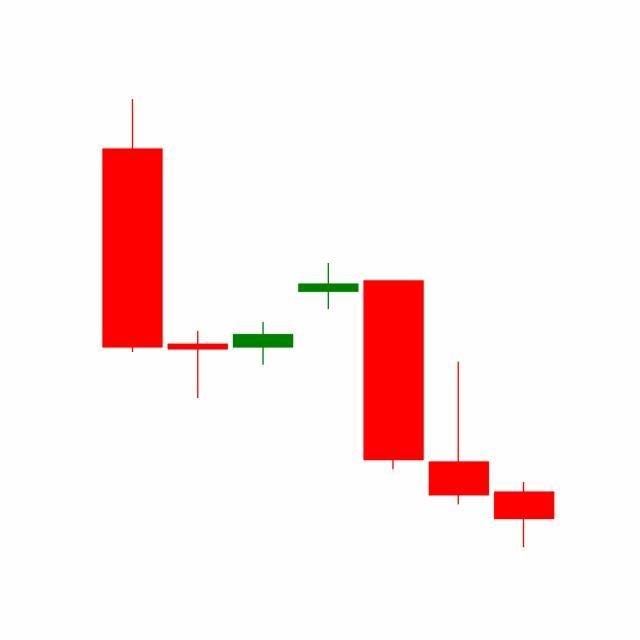Three Outside Up-Down: (295, 260, 492, 508)
